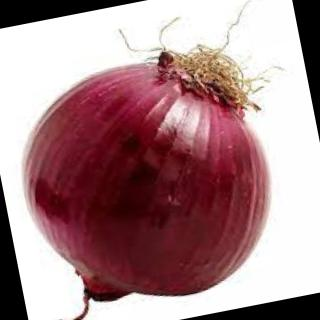Bawang Merah: (1, 31, 295, 320)
